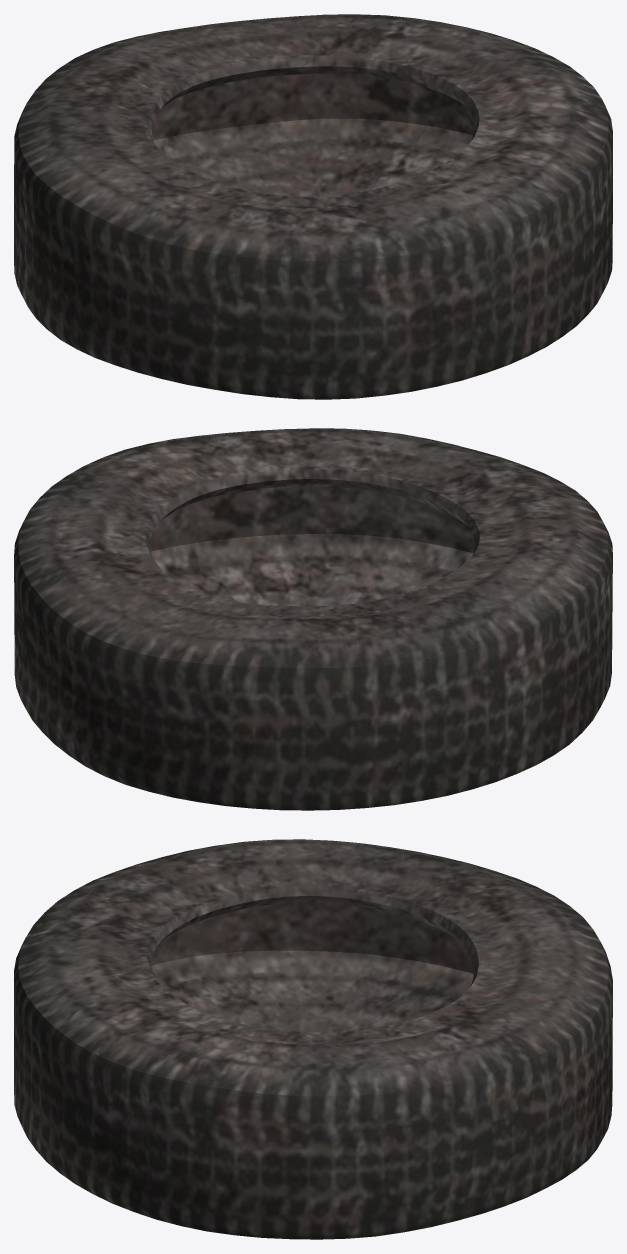
File: dirty_tire_03.glb
3 views of the same model, one above another, from view 1: azimuth 30°, elevation 25°; view 2: azimuth 150°, elevation 25°; view 3: azimuth 270°, elevation 25° (orthographic). The views are drawn at different scales.
Parts seen in each view (by area): view 1: dirty_tire_03; view 2: dirty_tire_03; view 3: dirty_tire_03.
Boxes of the visible parts, bbox=[...] form: dirty_tire_03: bbox=[14, 14, 612, 399]; dirty_tire_03: bbox=[14, 428, 612, 810]; dirty_tire_03: bbox=[14, 839, 612, 1239].
Size of what is drawn, in the model's own units: 0.62 by 0.2009 by 0.6091.
1 material, 1 textured.
